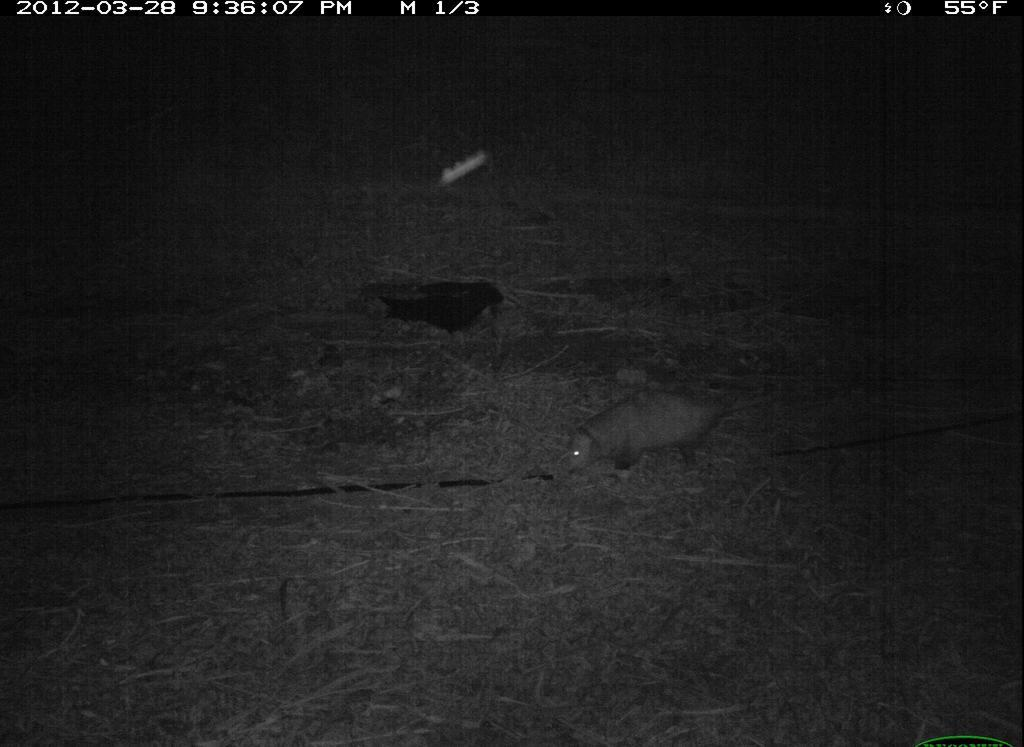opossum: (561, 383, 751, 482)
